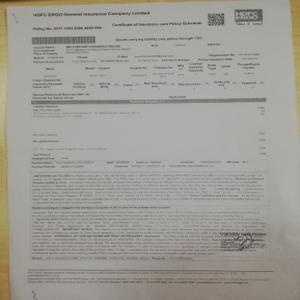image: (234, 7, 263, 24)
table: (31, 97, 270, 160), (33, 47, 267, 97)
text: (30, 174, 268, 203), (30, 9, 154, 19)
